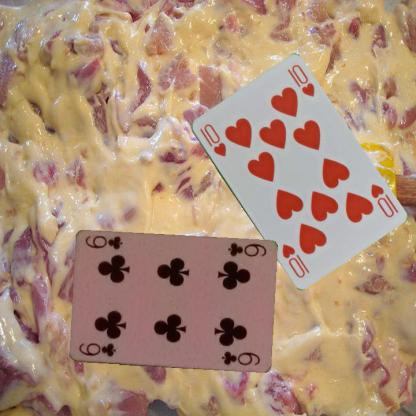10h: (197, 120, 227, 158), (368, 181, 395, 219)
6c: (224, 240, 268, 258), (76, 340, 118, 358)
